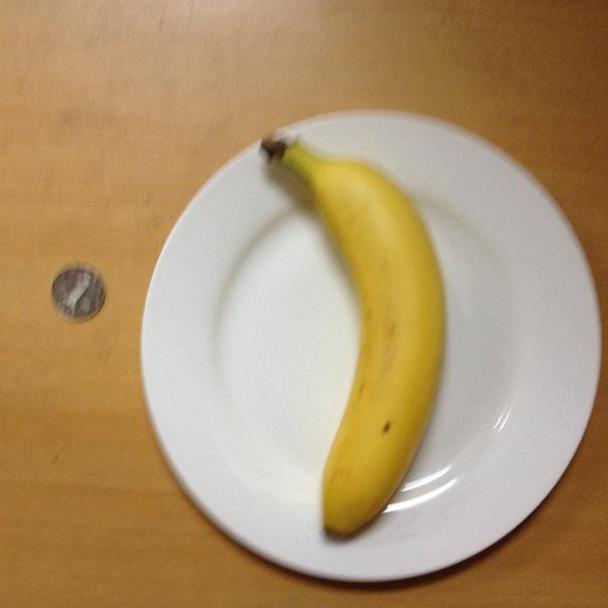banana: (259, 130, 462, 538)
